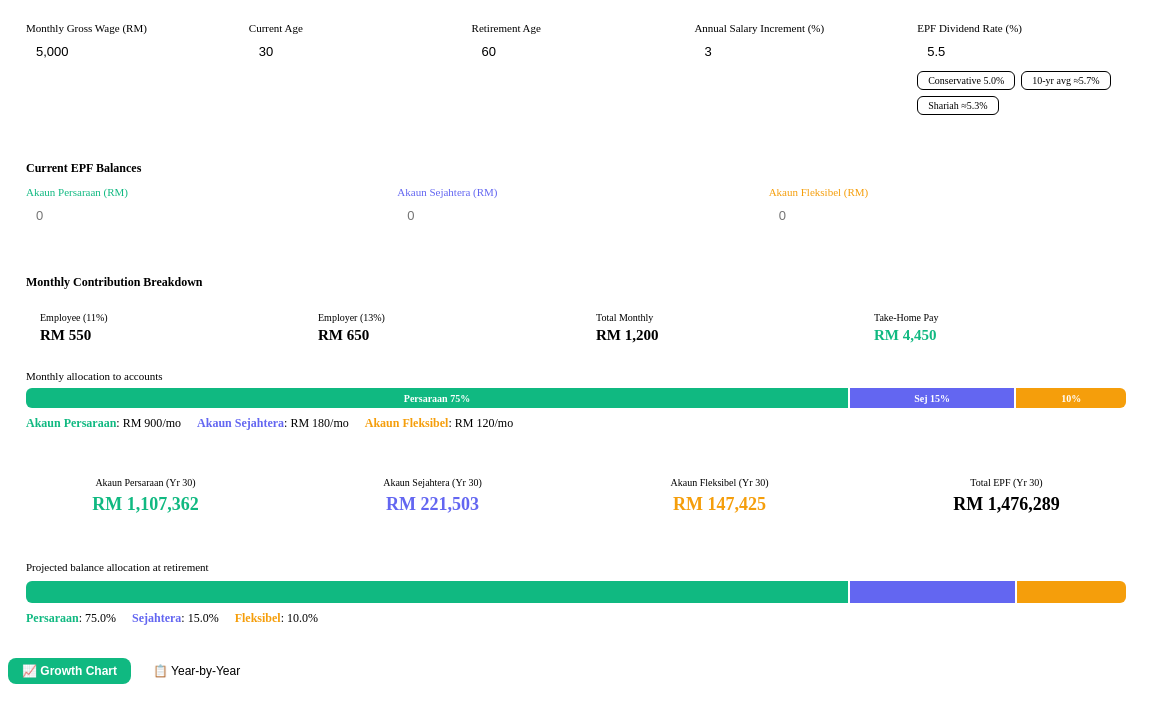
EPFTab › dividend preset chips set the rate
Click the button "10-yr avg ≈5.7%".
click(1066, 80)  # box [1021,71,1111,90]
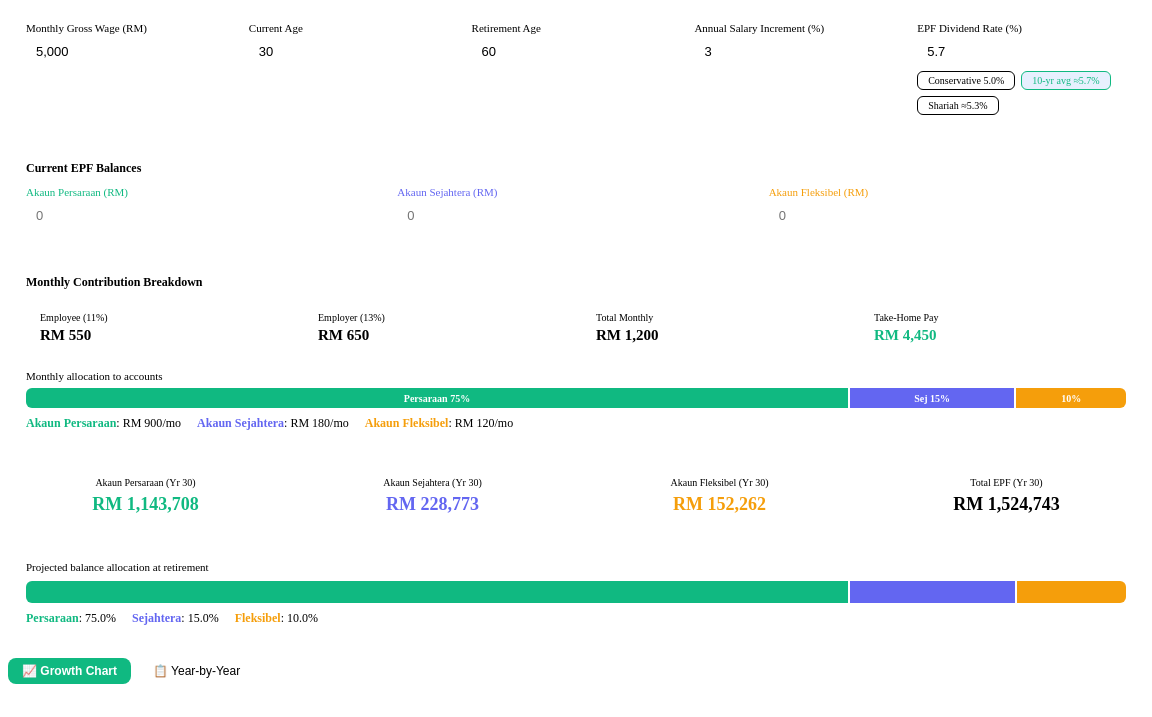
Expected: the number field showing "5.7" below "EPF Dividend Rate (%)" is shown, [917,38,1146,65]
Click the button "Shariah ≈5.3%".
click(958, 106)  # box [917,96,999,115]
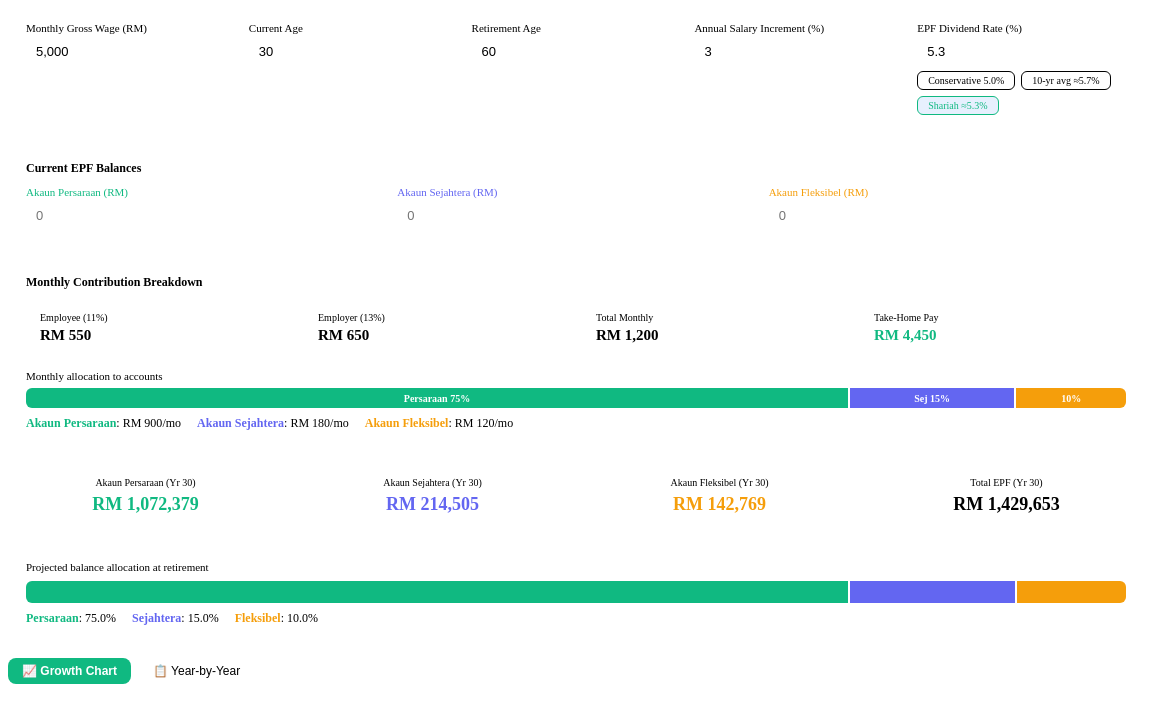
Expected: the number field showing "5.3" below "EPF Dividend Rate (%)" is shown, [917,38,1146,65]
